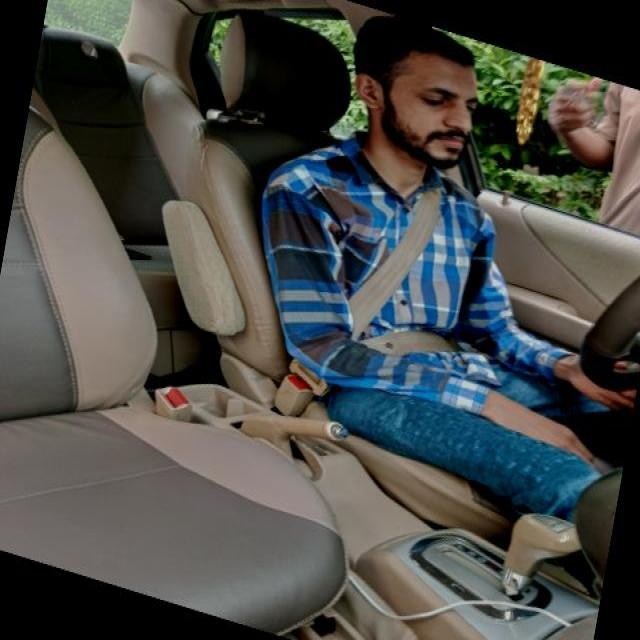seatbelt: (282, 165, 502, 368)
